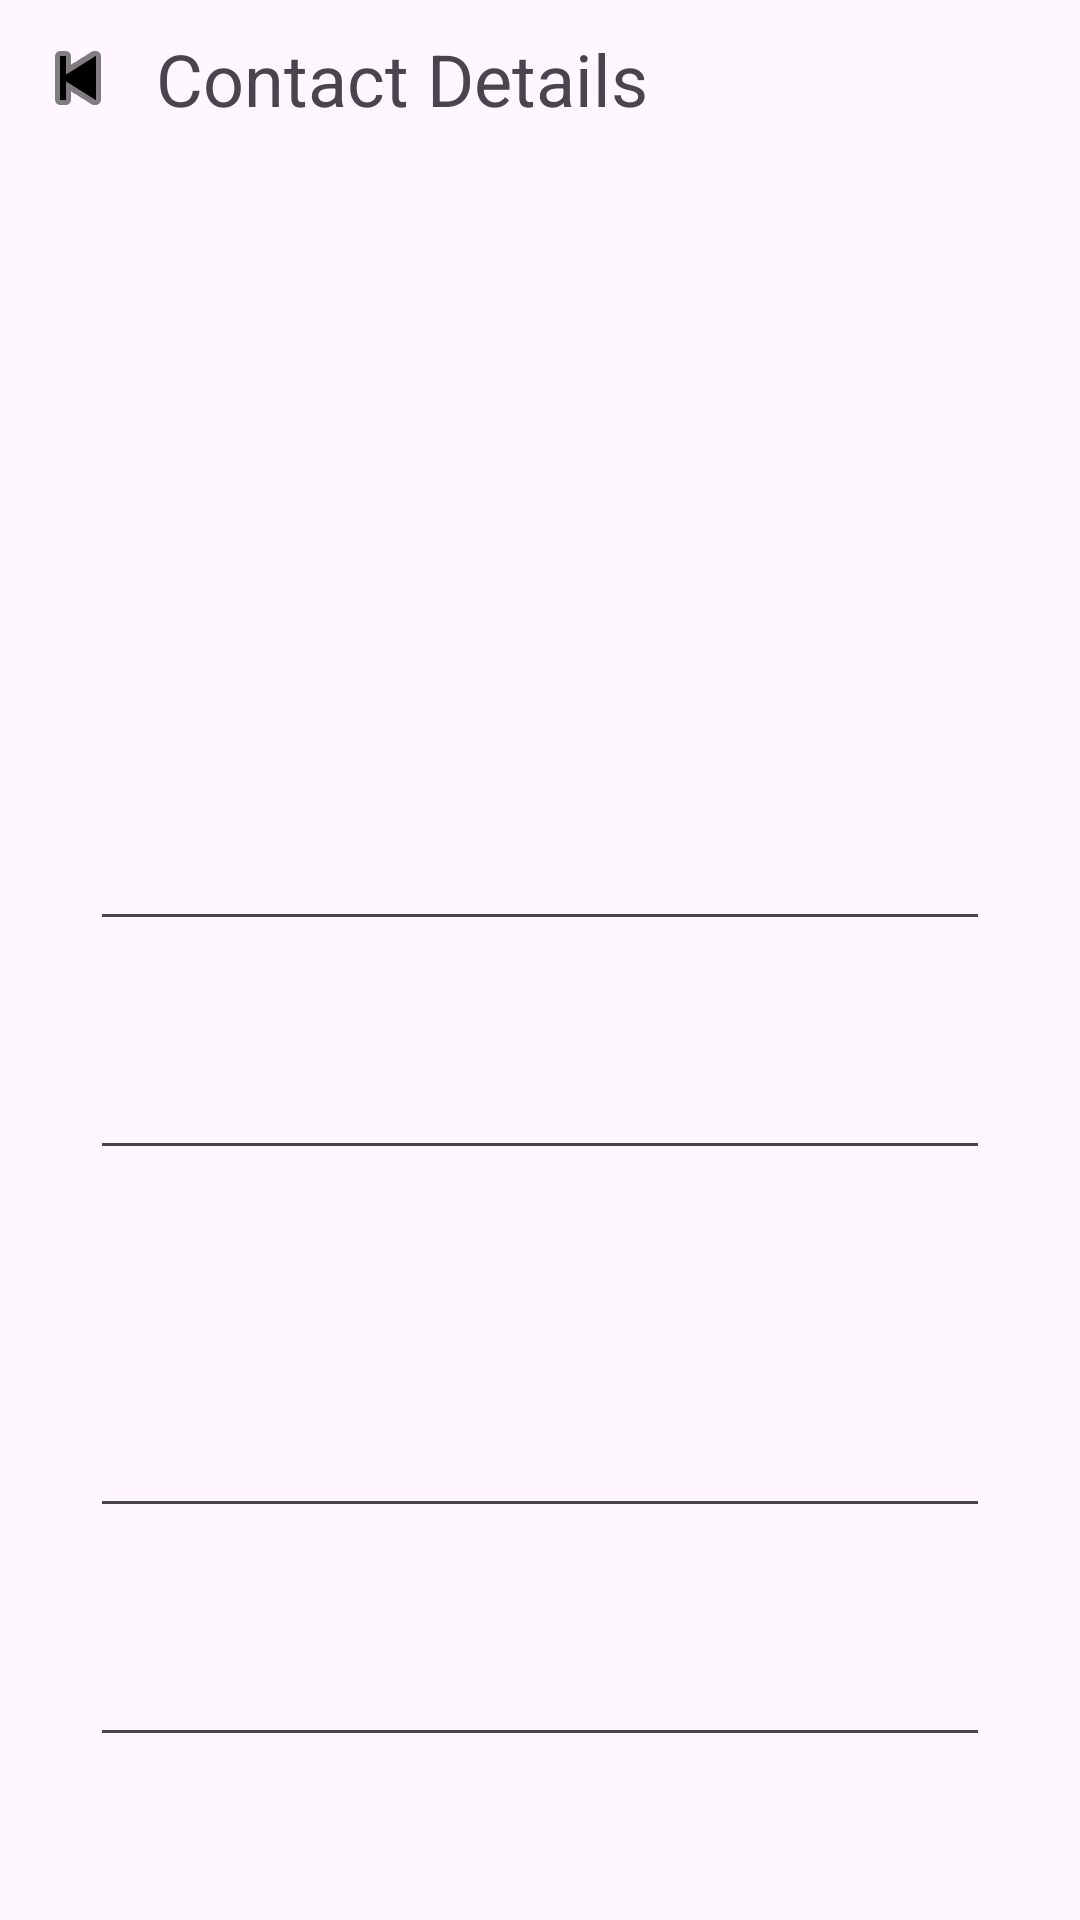

Where to tap for icons on this 1080×1920 app screen, as point (x, y):
previous: point (78, 78)
